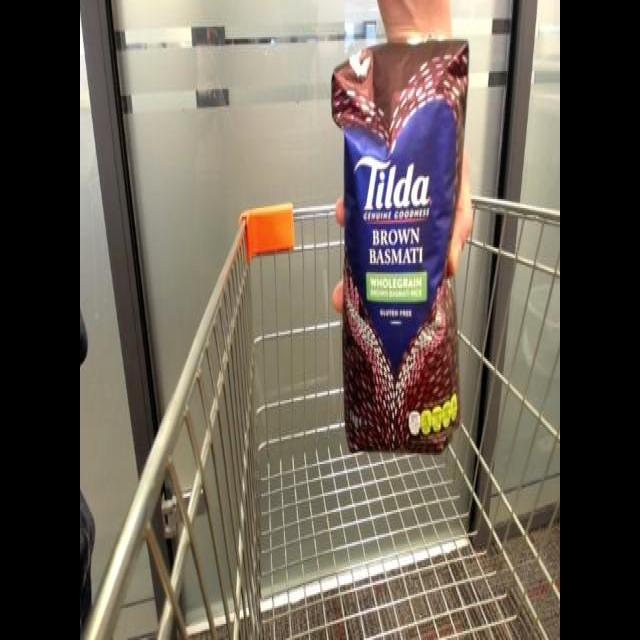Tida: (330, 29, 480, 460)
